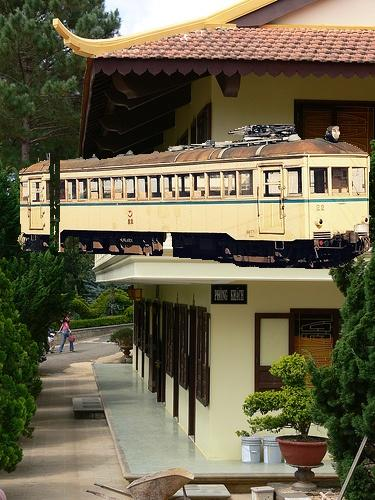tampered: (18, 125, 370, 269)
